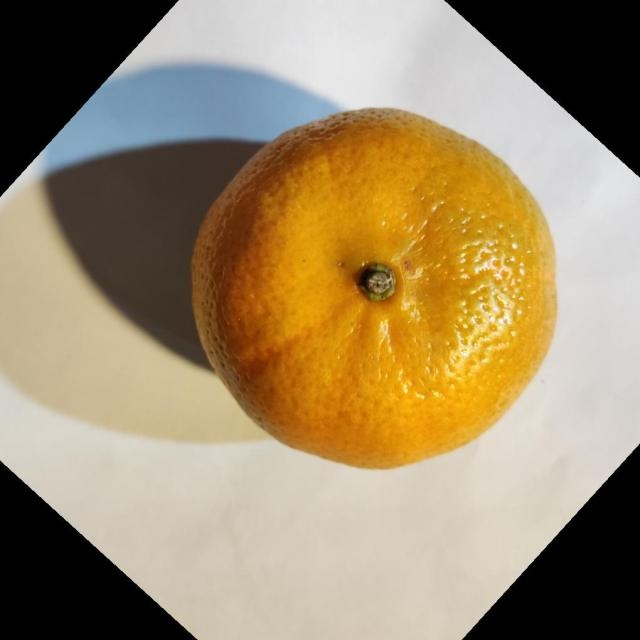agrume: (190, 106, 558, 470)
